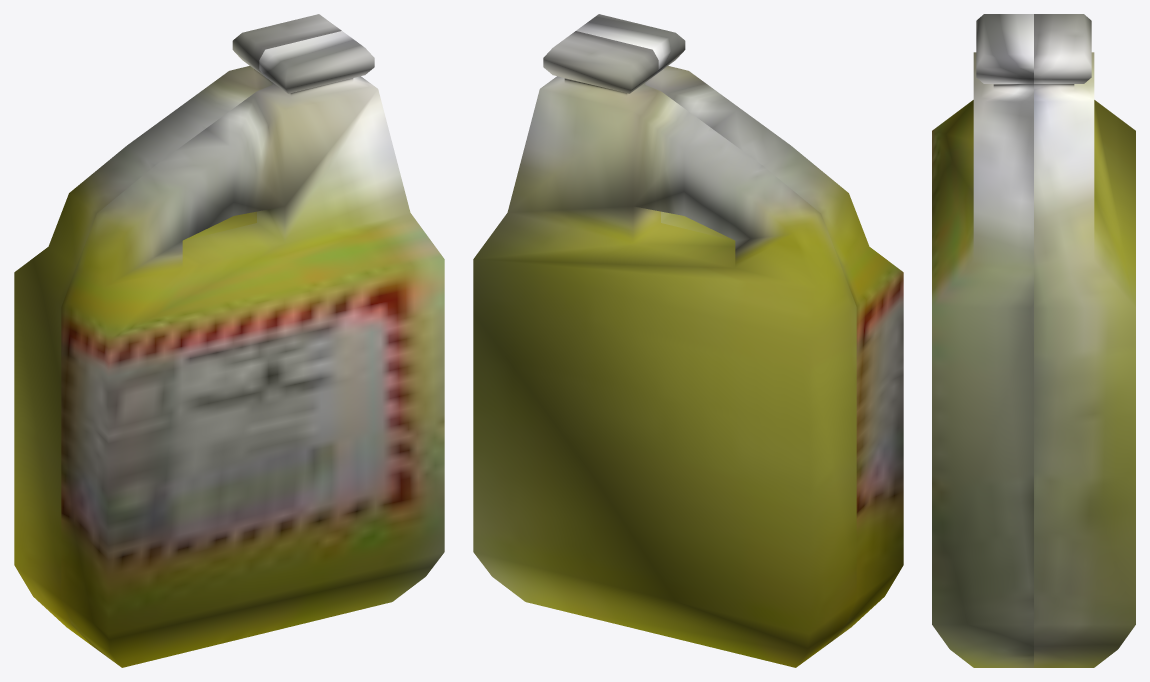
Rendered from chlorine.FBX.
3 views of the same model, side by side, from view 1: azimuth 30°, elevation 25°; view 2: azimuth 150°, elevation 25°; view 3: azimuth 270°, elevation 25° (orthographic). The views are drawn at different scales.
Parts seen in each view (by area): view 1: chlorine; view 2: chlorine; view 3: chlorine.
Boxes of the visible parts, x1,y1,x2,y2 form: chlorine: (14, 14, 444, 667); chlorine: (473, 14, 903, 667); chlorine: (932, 14, 1135, 667).
Bounding box in the file's own units: 51.14 × 80.85 × 24.85.
